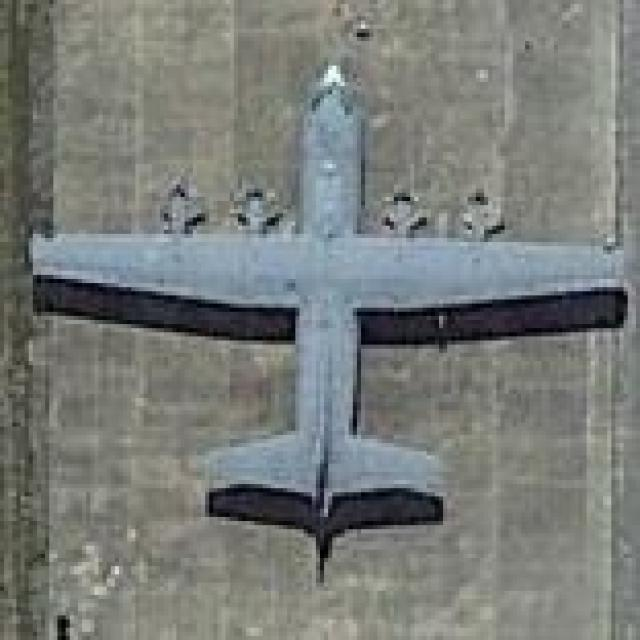C-130_TopDown: (21, 57, 634, 584)
